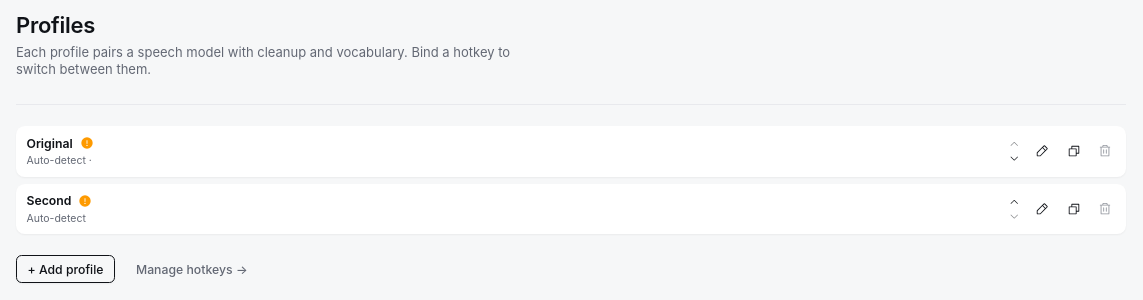
Test: ModesPage – delete › re-fetches settings after delete so the removed mode's binding does not linger
Click the button named "Delete" in the row of "Original" at (1105, 151), box [1091,137,1119,165]
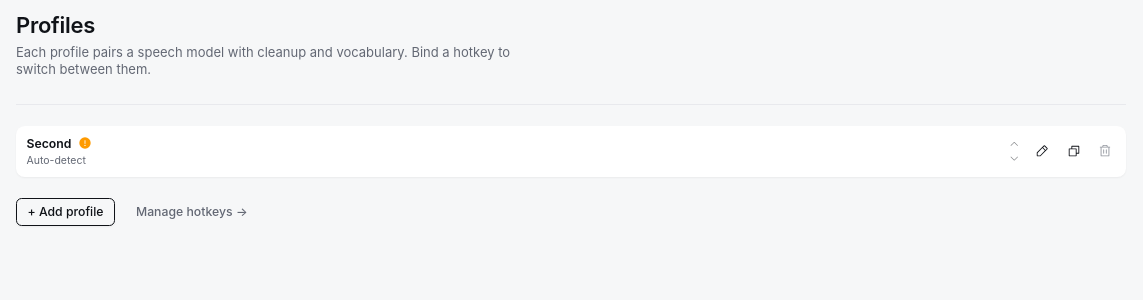
Expected: the text "Second" is shown, [26,134,72,152]
Now the text "Original" is gone
